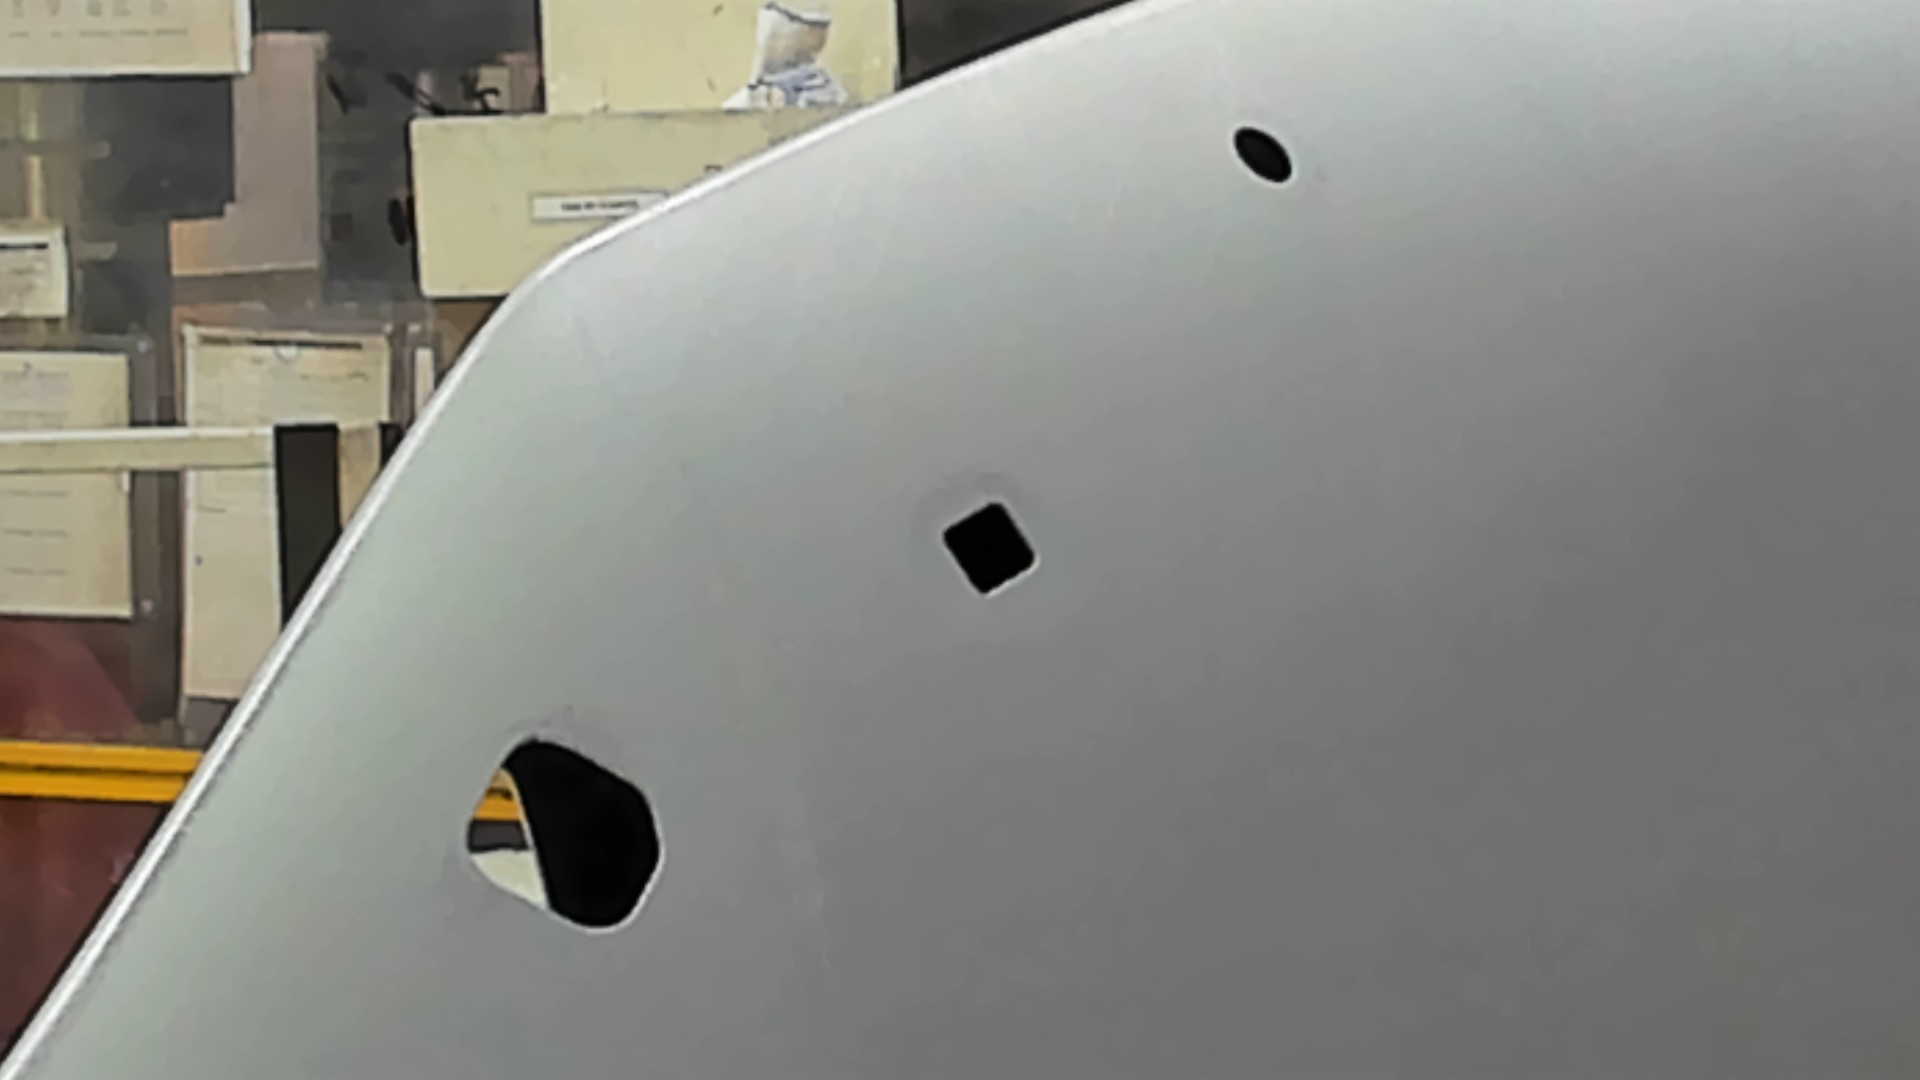capo: (1058, 193, 1920, 1080)
chico: (1229, 123, 1295, 190)
grande: (456, 728, 669, 938)
mediano: (934, 496, 1042, 603)
